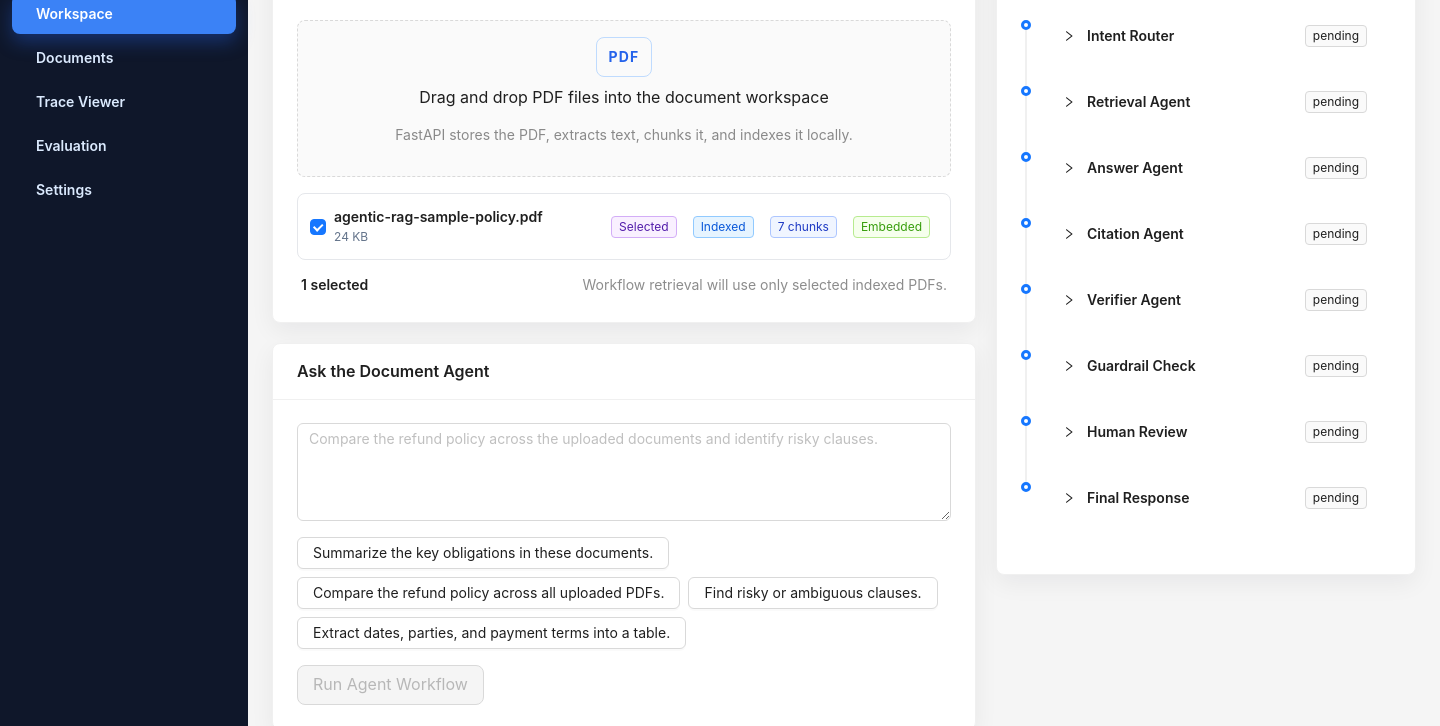
Test: keeps an agent workflow result when navigating away during the run
Expected: the text "agentic-rag-sample-policy.pdf" is shown, 334,208 -> 543,225
Replace the text in the text box with placeholder "Compare the refund policy" with "Find risky refund clauses" at (624, 472), box 297,423 -> 951,521
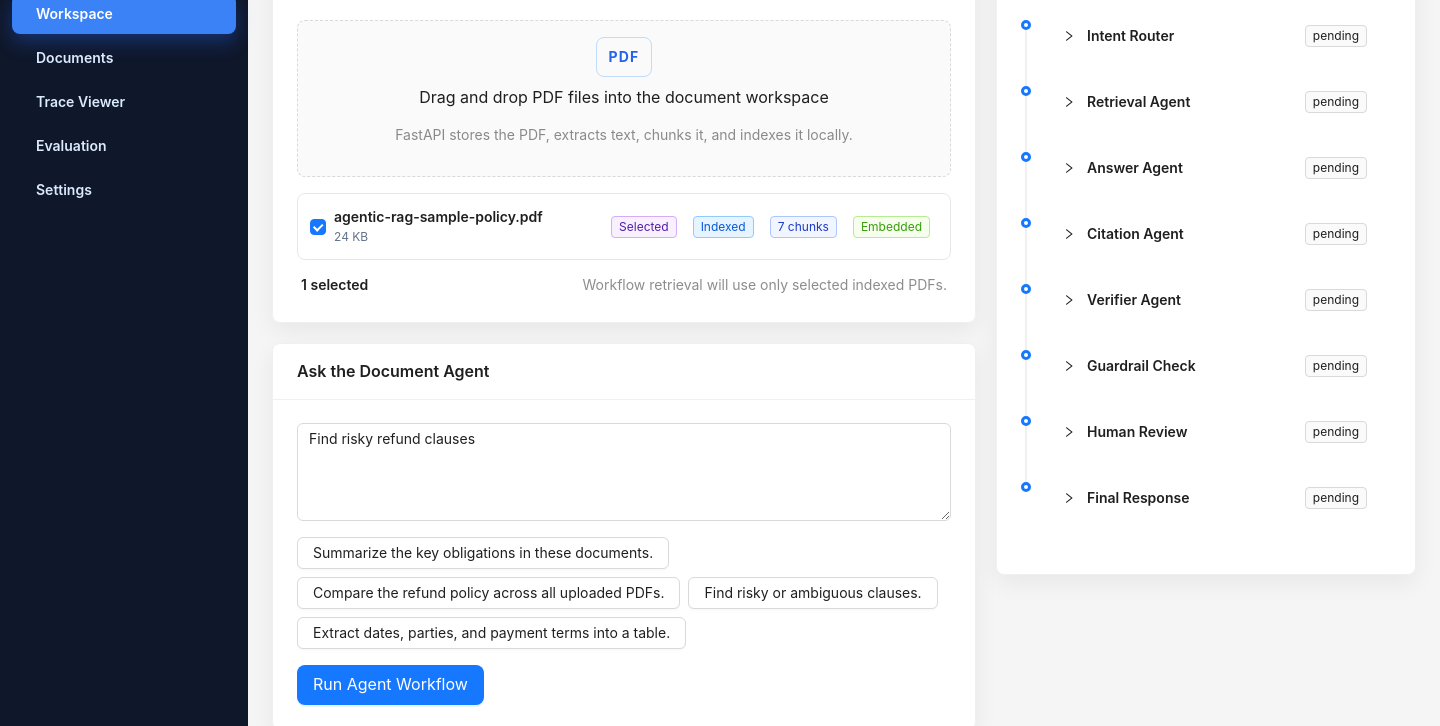
Click the button "Run Agent Workflow" at (390, 685), box 297,665 -> 484,705
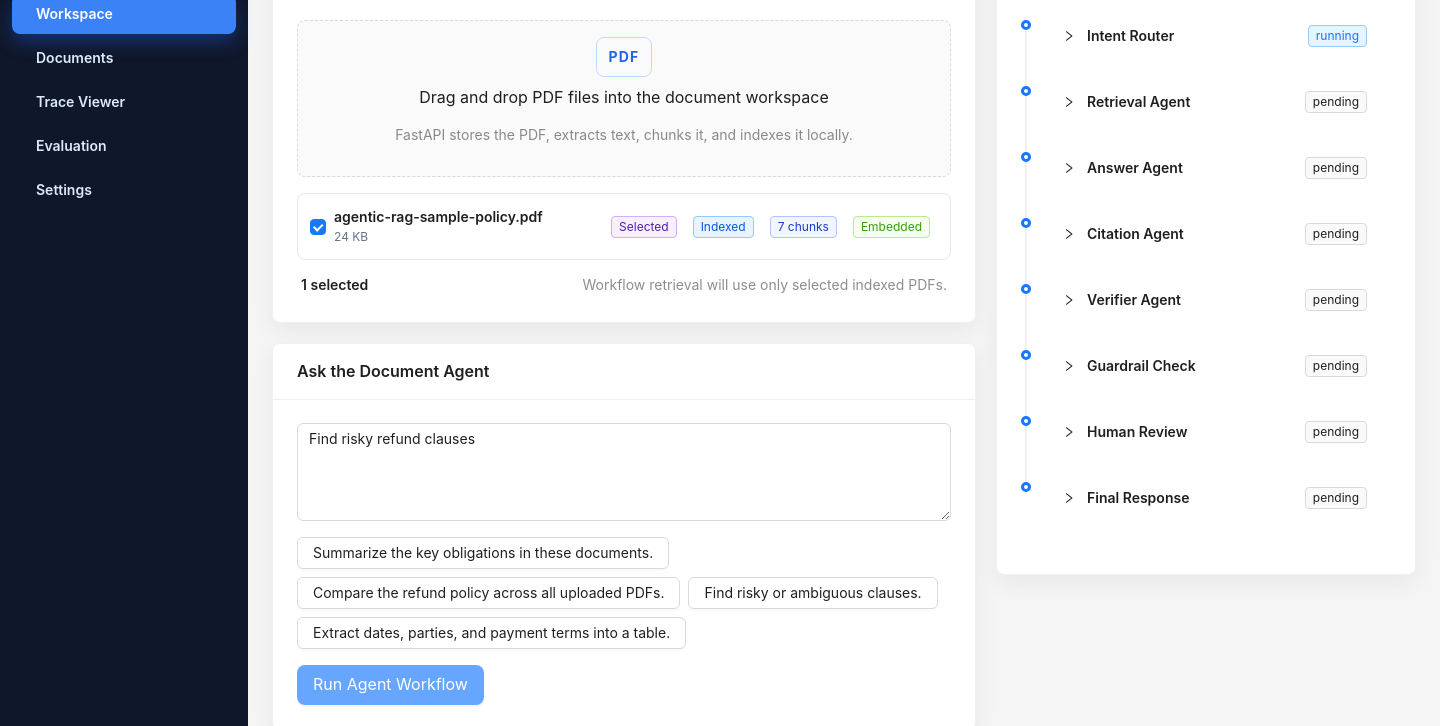
Click the menu item "Documents" at (75, 58), box 36,49 -> 113,66
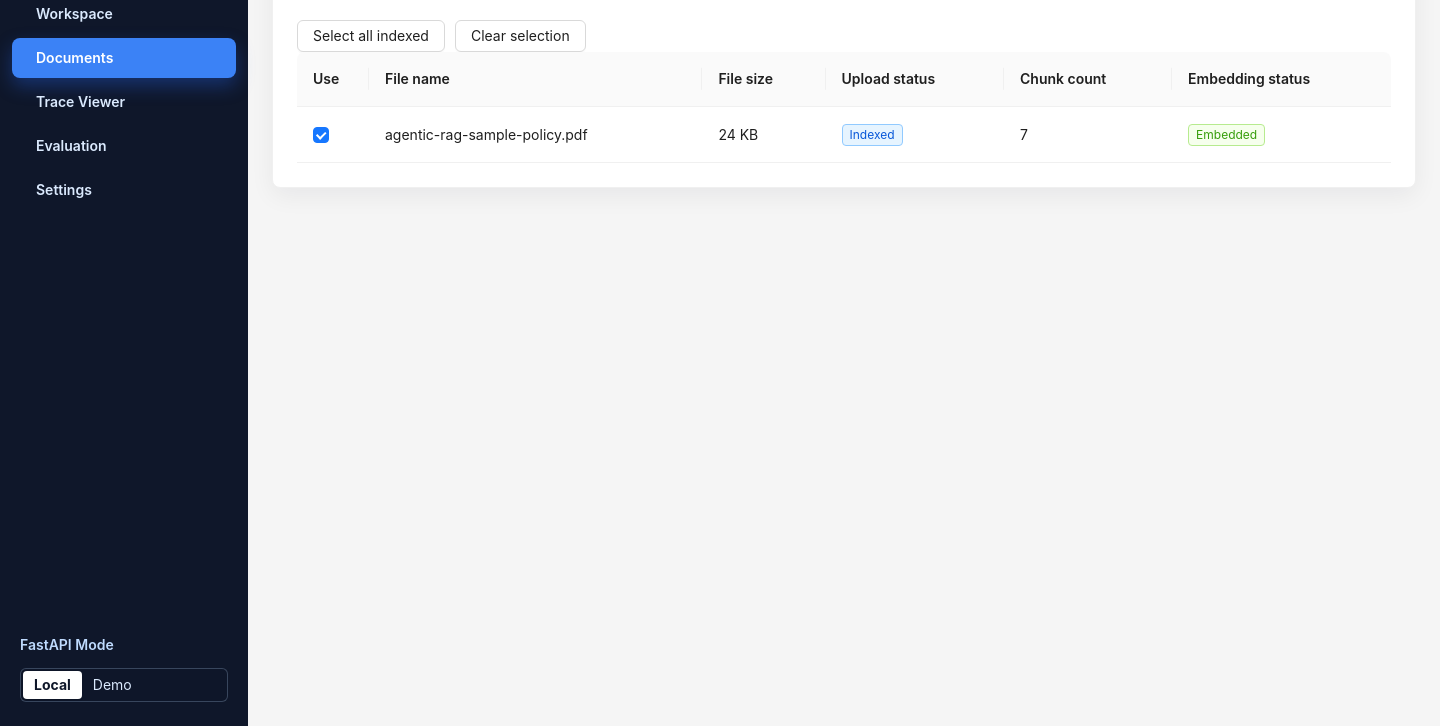
Click the menu item "Workspace" at (74, 14), box 36,5 -> 113,22
(page scrolled)
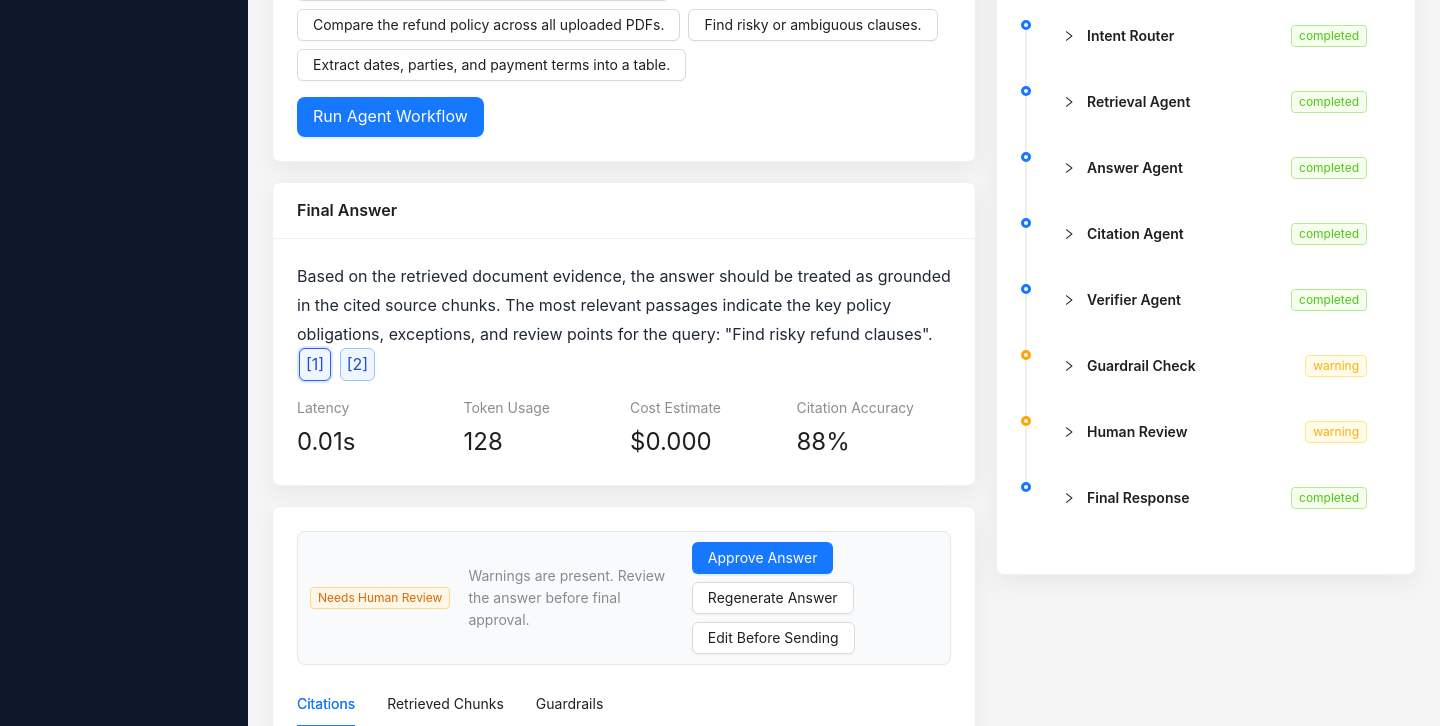
Now the text "Based on the retrieved document evidence" is shown, box 297,266 -> 951,344
